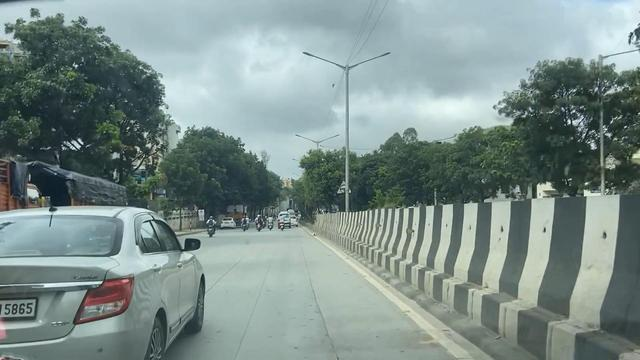LMV: (2, 206, 208, 360)
